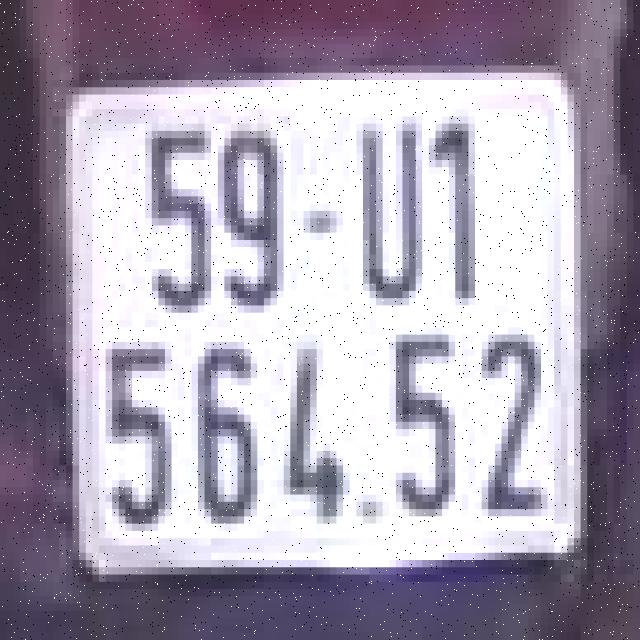1: (429, 98, 488, 302)
2: (465, 320, 564, 524)
4: (277, 335, 356, 538)
5: (79, 331, 178, 542), (138, 113, 218, 338), (379, 316, 458, 528)
6: (195, 334, 267, 531)
9: (218, 116, 297, 320)
U: (353, 102, 426, 313)
